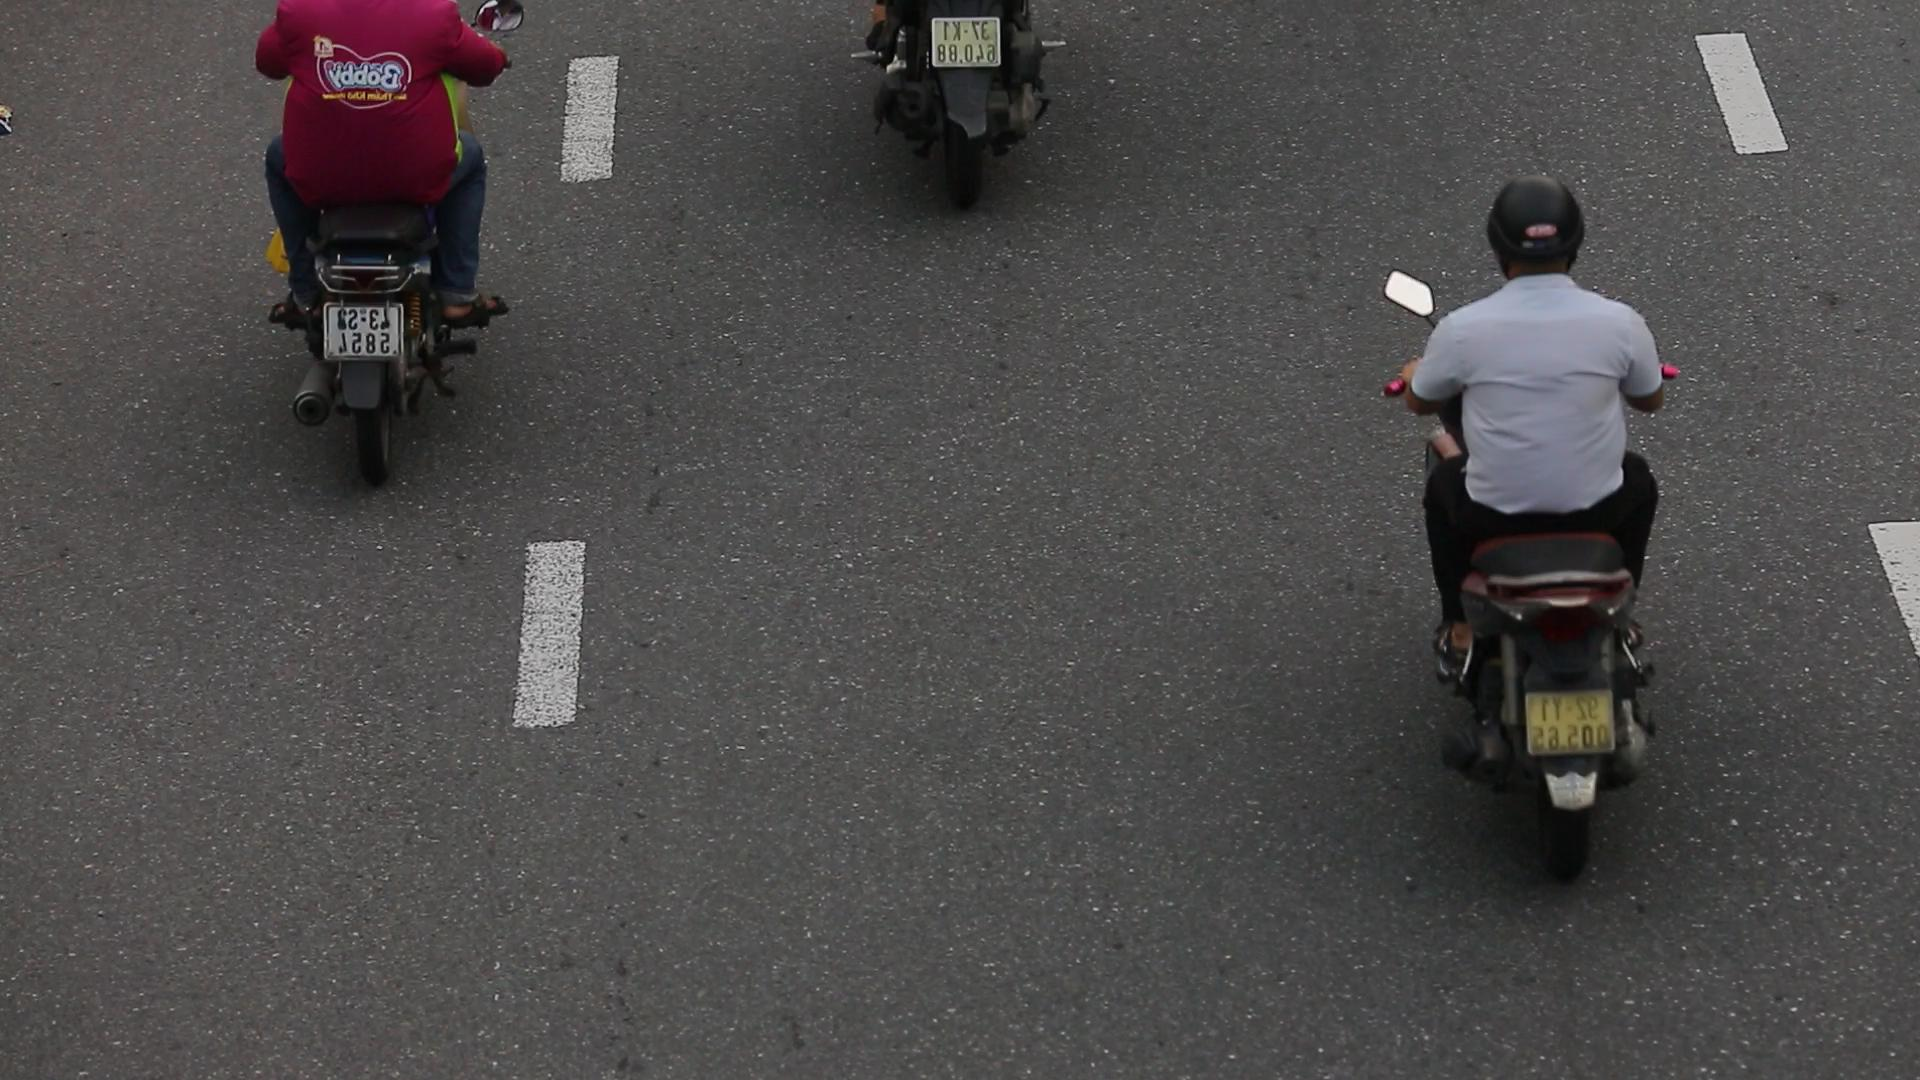motobike: (1373, 185, 1687, 866)
